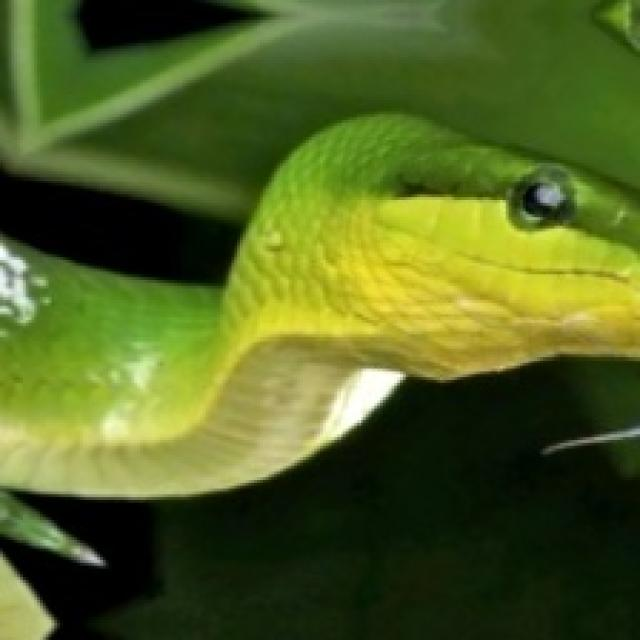red-tailed green ratsnake: (0, 114, 637, 494)
